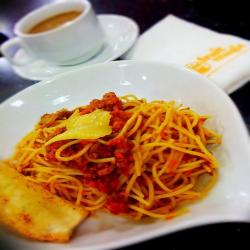bolonese_pasta: (28, 98, 205, 218)
